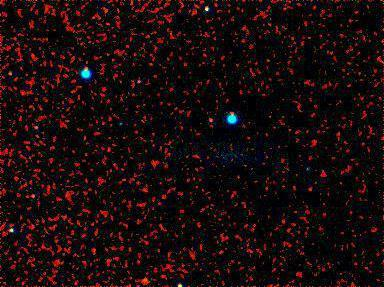star: (129, 263, 159, 287)
